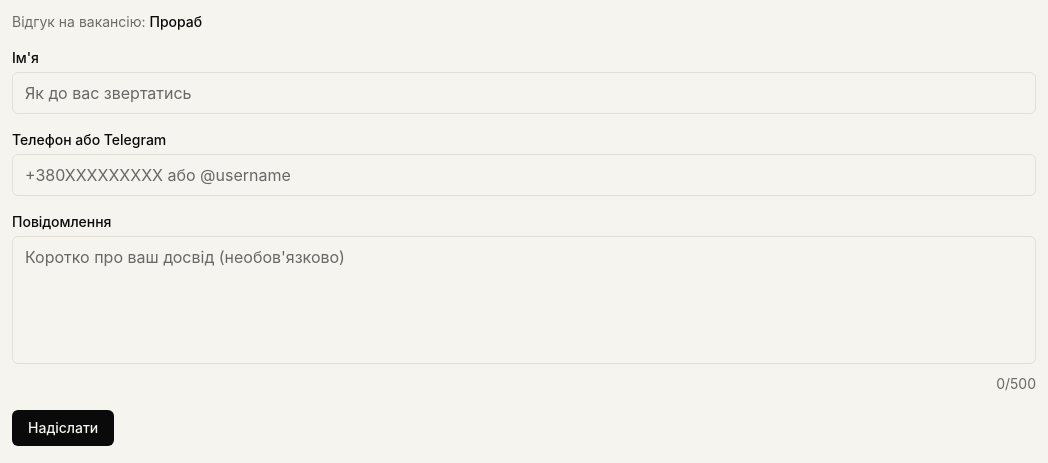
Test: ApplicationForm › renders the vacancy context and the character counter
Expected: the text "Відгук на вакансію: Прораб" is shown, [12,13,202,30]
Expected: the text "Прораб" is shown, [150,13,202,30]
Type "Досвід 5 років" into the text box labelled "Повідомлення" at (524, 300), box [12,236,1036,364]
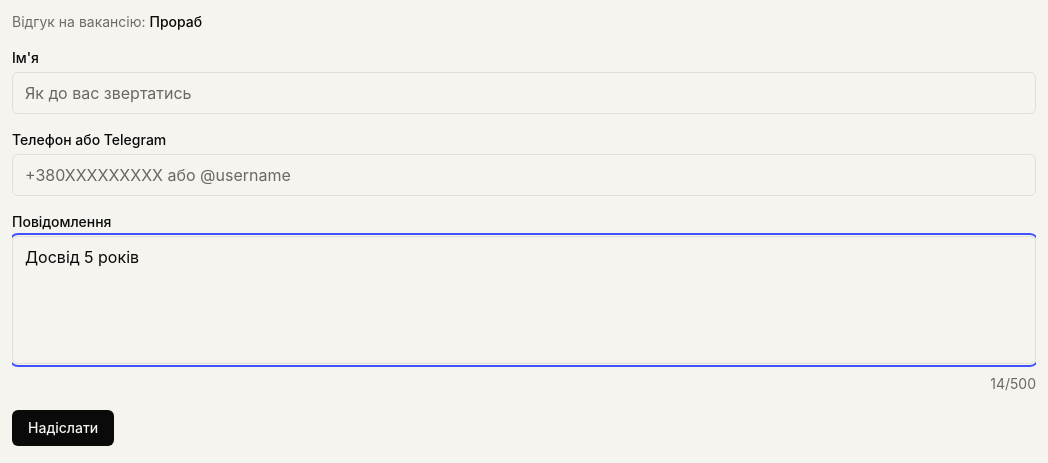
Expected: the text "14/500" is shown, [990,374,1036,394]
